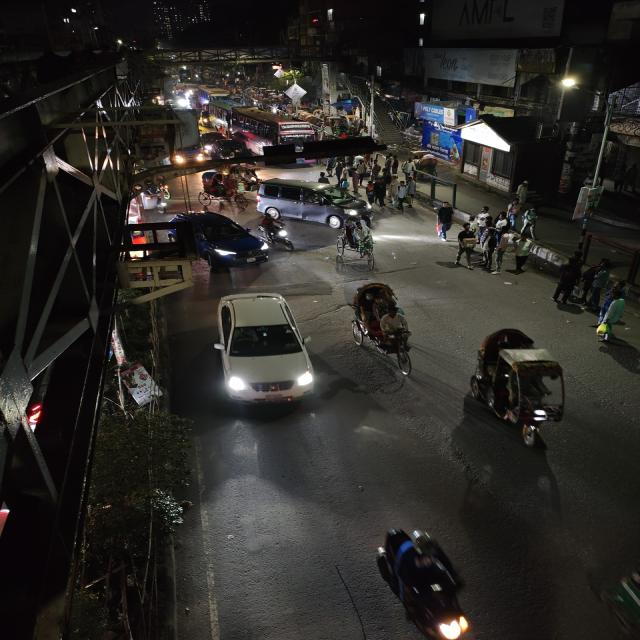bus: (218, 105, 317, 151)
car: (206, 289, 317, 421), (254, 176, 378, 230), (174, 210, 270, 272)
motorcycle: (362, 520, 484, 640), (258, 207, 296, 249)
pedestrian: (577, 255, 613, 312), (551, 260, 585, 308), (595, 293, 632, 335), (482, 227, 508, 270), (511, 235, 537, 273), (454, 224, 480, 260), (432, 203, 456, 240), (369, 178, 388, 207), (473, 206, 492, 232), (494, 211, 509, 230)
pickup_van: (174, 143, 208, 167)
rickshaw: (460, 323, 583, 449), (341, 278, 434, 377), (333, 222, 386, 274), (194, 168, 252, 212)
